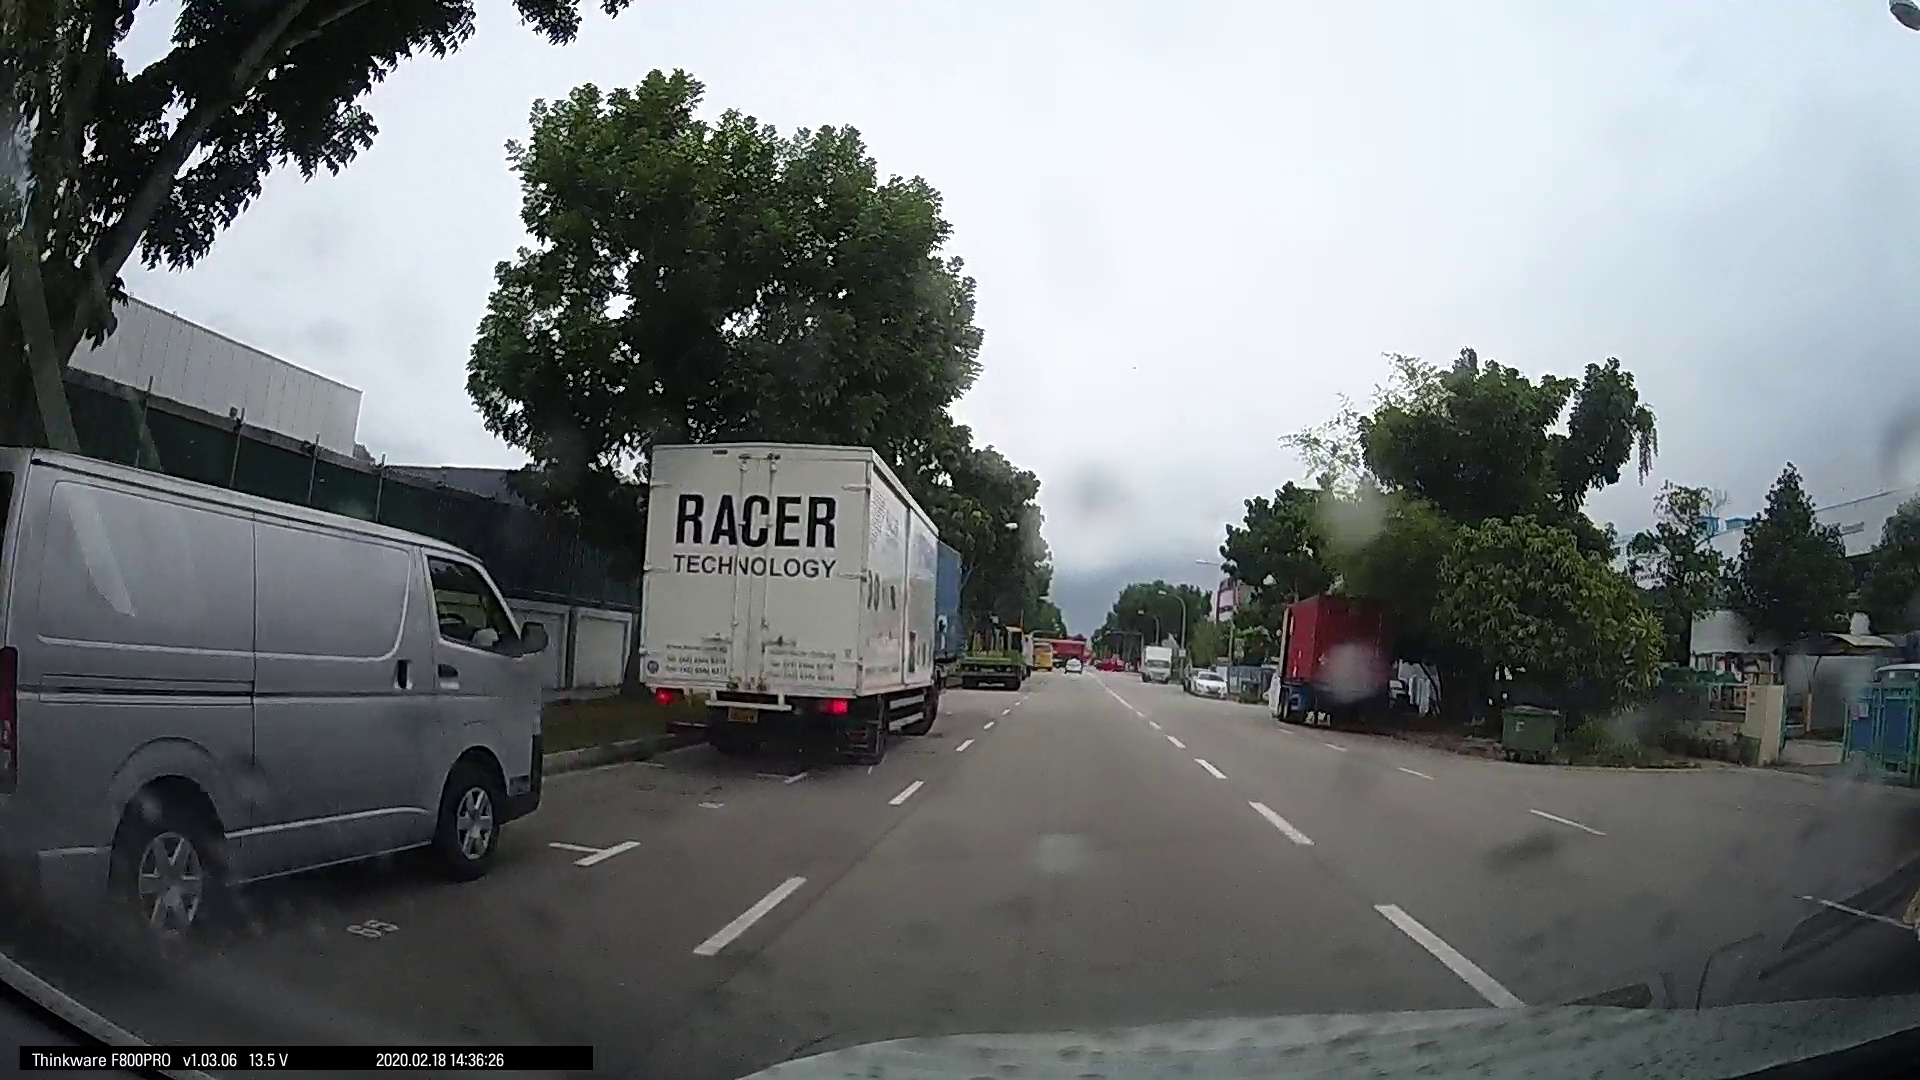Heavy Vehicle: (625, 433, 948, 769), (1269, 589, 1412, 731)
Light Vehicle: (5, 465, 545, 948), (1183, 663, 1225, 695)
